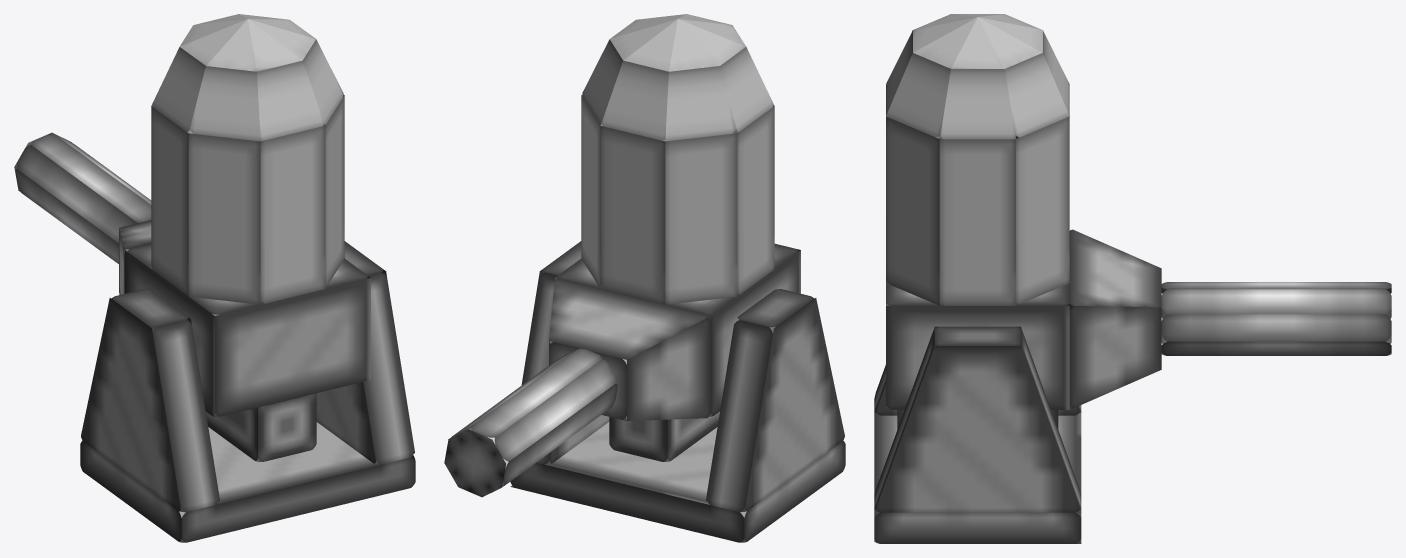
File: ciws_test.obj
The picture shows the model from 3 angles, left to right: view 1: azimuth 30°, elevation 25°; view 2: azimuth 150°, elevation 25°; view 3: azimuth 270°, elevation 25°; orthographic projection. The views are drawn at different scales.
Parts seen in each view (by area): view 1: cylinder6, cube1, cylinder3, sphere, cube, cylinder, cylinder5, cube2, cylinder4; view 2: cylinder6, cylinder3, sphere, cube, cylinder4, cylinder5, cube1, cylinder, cube2; view 3: cylinder6, cylinder, sphere, cylinder5, cylinder4, cube1, cube, cylinder3.
Boxes of the visible parts, x1,y1,x2,y2 form: cylinder6: [151, 94, 344, 304]; cube1: [125, 243, 370, 417]; cylinder3: [81, 288, 219, 511]; sphere: [152, 14, 343, 141]; cube: [80, 422, 415, 542]; cylinder: [316, 241, 414, 464]; cylinder5: [14, 132, 151, 263]; cube2: [206, 393, 316, 461]; cylinder4: [119, 220, 219, 315]; cylinder6: [581, 94, 774, 304]; cylinder3: [706, 289, 844, 511]; sphere: [582, 14, 773, 141]; cube: [510, 422, 845, 542]; cylinder4: [549, 279, 710, 420]; cylinder5: [444, 348, 617, 497]; cube1: [555, 243, 800, 416]; cylinder: [521, 241, 609, 464]; cube2: [609, 411, 719, 461]; cylinder6: [886, 84, 1069, 305]; cylinder: [874, 326, 1081, 512]; sphere: [886, 14, 1069, 139]; cylinder5: [1161, 282, 1391, 355]; cylinder4: [1069, 229, 1161, 408]; cube1: [886, 279, 1069, 409]; cube: [874, 412, 1081, 543]; cylinder3: [874, 365, 1081, 415].
Size of the model in its own units: 1.5 by 2.81 by 2.81.
